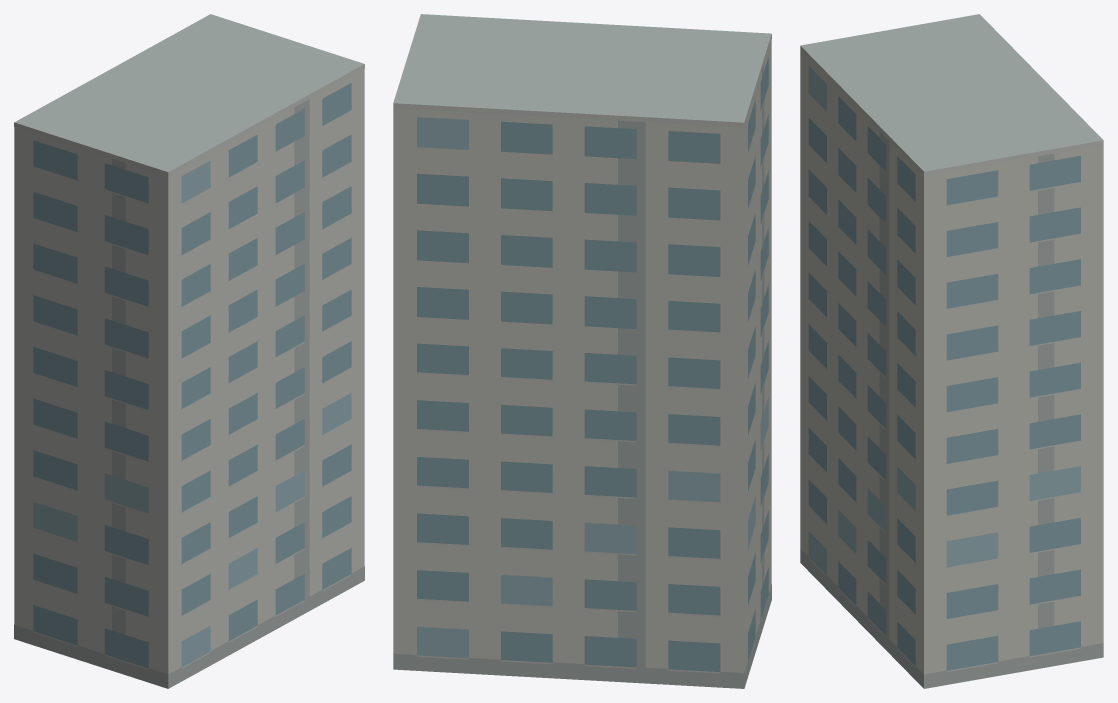
File: residential-16c5d5e5-5423-4971-bee0-95c423ed164d.glb
3 renders of one model, left to right at view 1: azimuth 30°, elevation 25°; view 2: azimuth 150°, elevation 25°; view 3: azimuth 270°, elevation 25°, orthographic. The views are drawn at different scales.
Parts seen in each view (by area): view 1: residential-16c5d5e5-5423-4971-bee0-95c423ed164d.tmp; view 2: residential-16c5d5e5-5423-4971-bee0-95c423ed164d.tmp; view 3: residential-16c5d5e5-5423-4971-bee0-95c423ed164d.tmp.
Part boxes in pixels (<box>): residential-16c5d5e5-5423-4971-bee0-95c423ed164d.tmp: <box>14,14,364,688</box>; residential-16c5d5e5-5423-4971-bee0-95c423ed164d.tmp: <box>393,14,771,688</box>; residential-16c5d5e5-5423-4971-bee0-95c423ed164d.tmp: <box>800,14,1103,688</box>.
Bounding box in the file's own units: 17.67 × 27 × 14.36.
